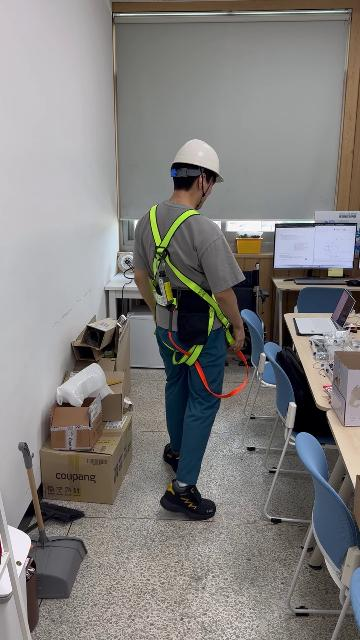helmet_worn: (169, 138, 225, 185)
shoe_worn: (160, 478, 216, 520), (163, 442, 180, 473)
vest_worn: (148, 209, 239, 365)
